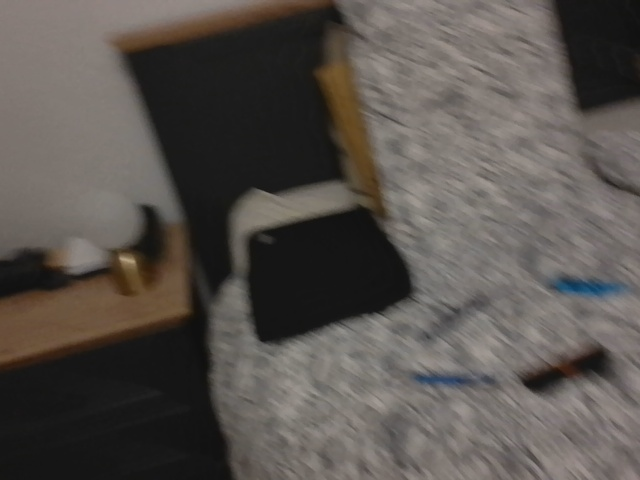joycon: (519, 339, 604, 393), (544, 267, 631, 298)
pen: (405, 366, 493, 386)
